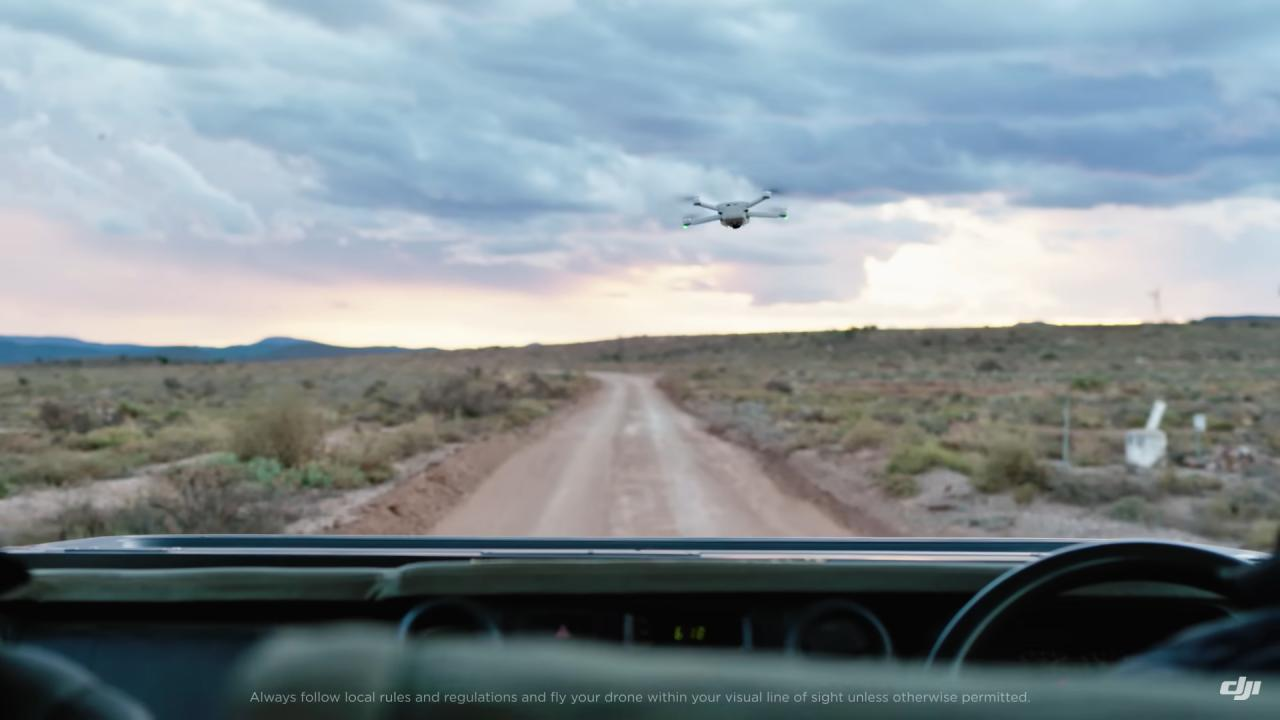Drone: (668, 176, 804, 242)
